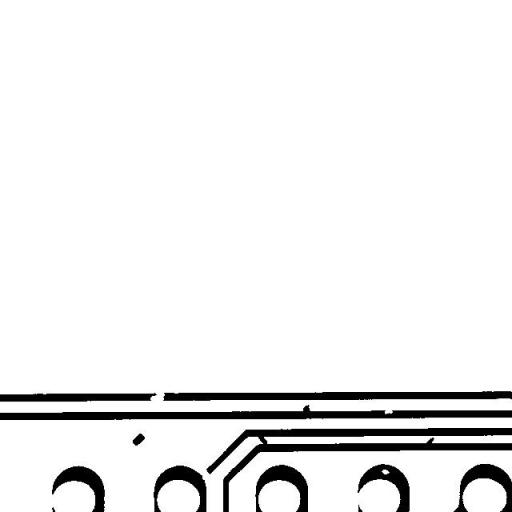copper: (125, 426, 152, 452)
mousebite: (377, 399, 400, 422)
open: (142, 383, 172, 408), (191, 462, 217, 487)
pin-hole: (374, 462, 396, 482)
short: (250, 424, 274, 452)
spur: (295, 397, 318, 423), (418, 430, 442, 454)
